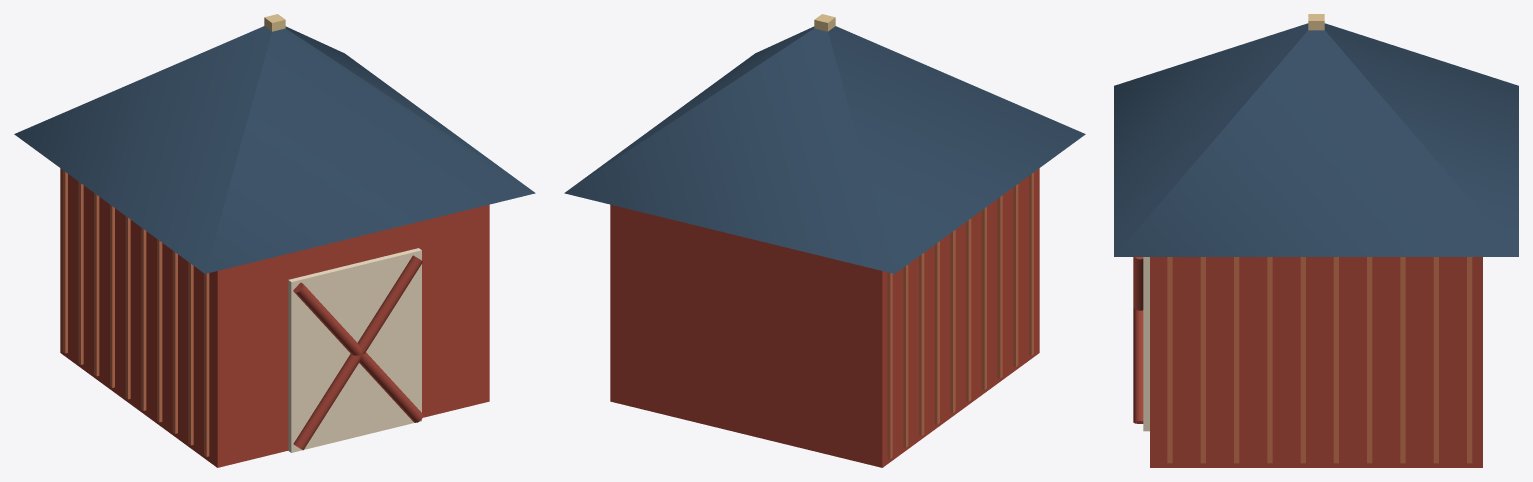
File: barn.glb
3 renders of one model, left to right at view 1: azimuth 30°, elevation 25°; view 2: azimuth 150°, elevation 25°; view 3: azimuth 270°, elevation 25°, orthographic. The views are drawn at different scales.
Bounding box in the file's own units: 6.08 × 6.3 × 6.08.
